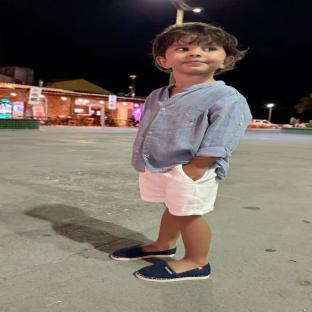Human: (110, 22, 252, 281)
